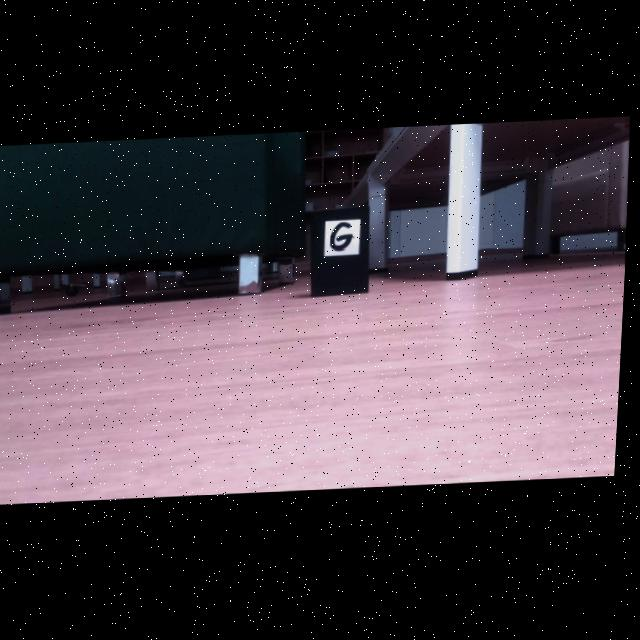G: (333, 225, 356, 251)
